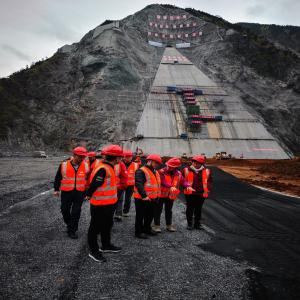red: (104, 146, 125, 165), (146, 154, 164, 170), (73, 147, 89, 163), (166, 158, 182, 172), (192, 155, 206, 169), (122, 150, 134, 163), (87, 152, 98, 162), (137, 156, 141, 159)
